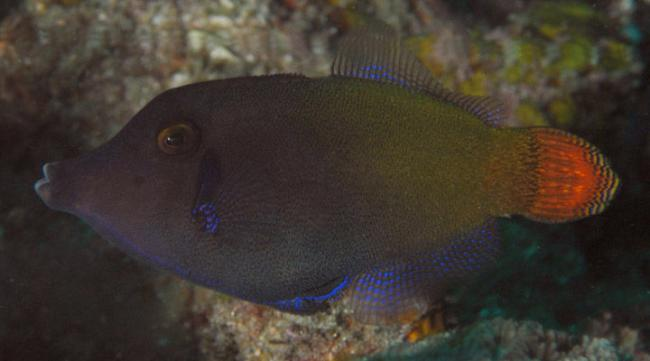fish: (35, 25, 621, 316)
